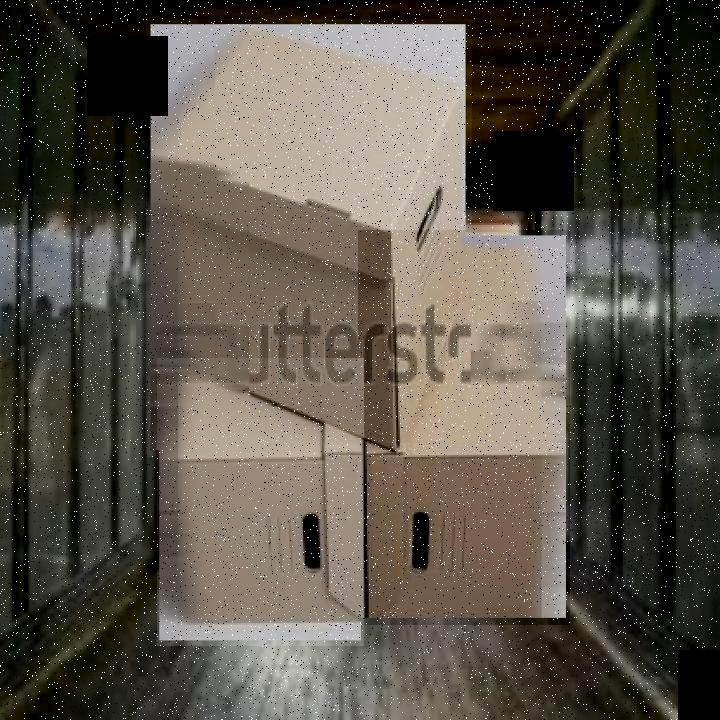box: (146, 19, 472, 457), (358, 230, 570, 625), (157, 358, 364, 646)
